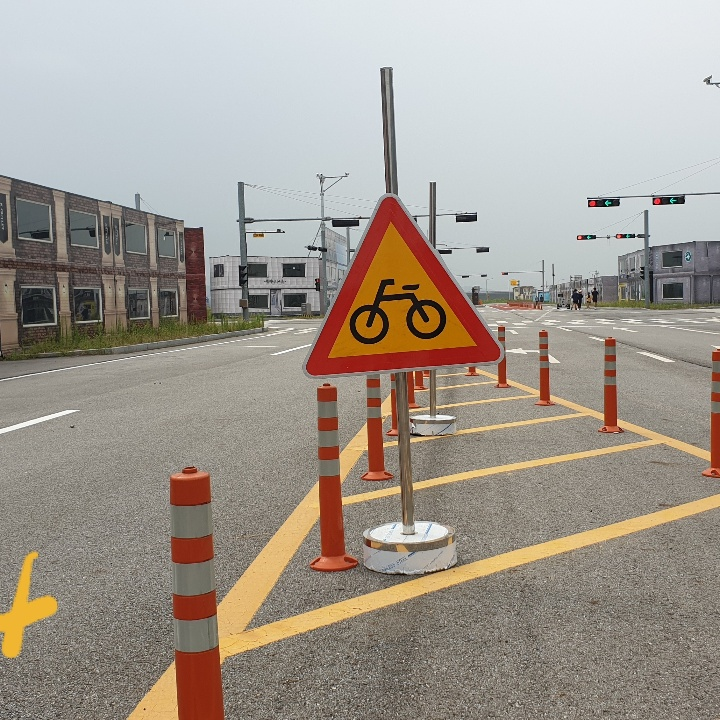bicycle: (301, 192, 501, 378)
